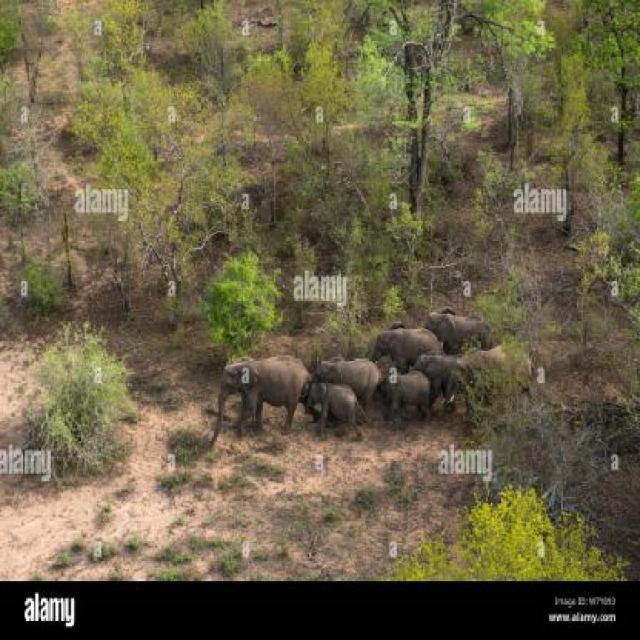elephant: (208, 348, 312, 446), (450, 334, 536, 426), (382, 318, 440, 394), (318, 349, 388, 403), (300, 389, 371, 436), (424, 311, 488, 363), (380, 372, 434, 426), (419, 344, 455, 399)
